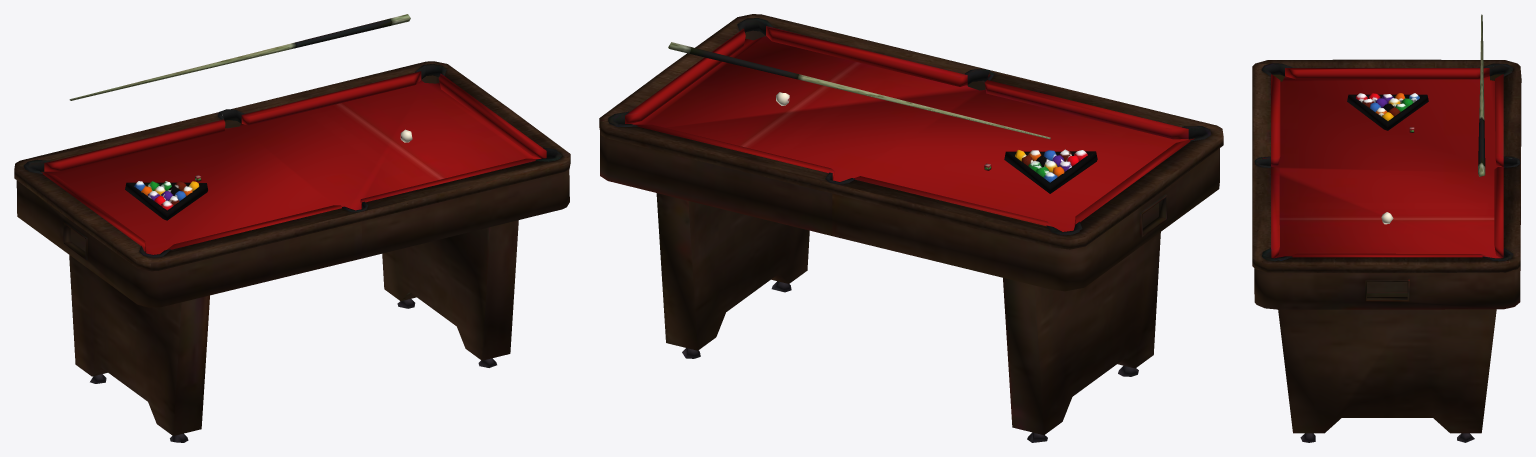
Rendered from pool-table.lod0.glb.
3 renders of one model, left to right at view 1: azimuth 30°, elevation 25°; view 2: azimuth 150°, elevation 25°; view 3: azimuth 270°, elevation 25°, orthographic. The views are drawn at different scales.
Parts seen in each view (by area): view 1: Object_2; view 2: Object_2; view 3: Object_2.
Part boxes in pixels (x1,y1,x2,y2): Object_2: [14, 14, 570, 442]; Object_2: [599, 14, 1223, 442]; Object_2: [1252, 14, 1521, 442].
Bounding box in the file's own units: 2.6 × 1.61 × 1.44.
1 material, 1 textured.
